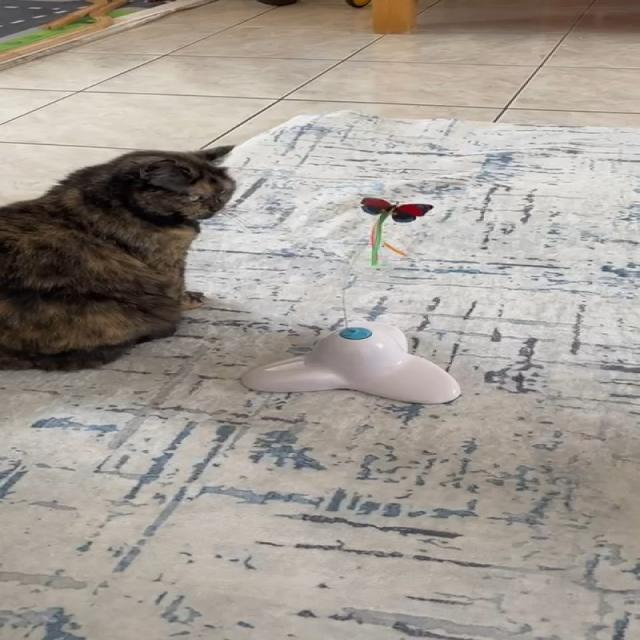authorized: (0, 144, 237, 371)
